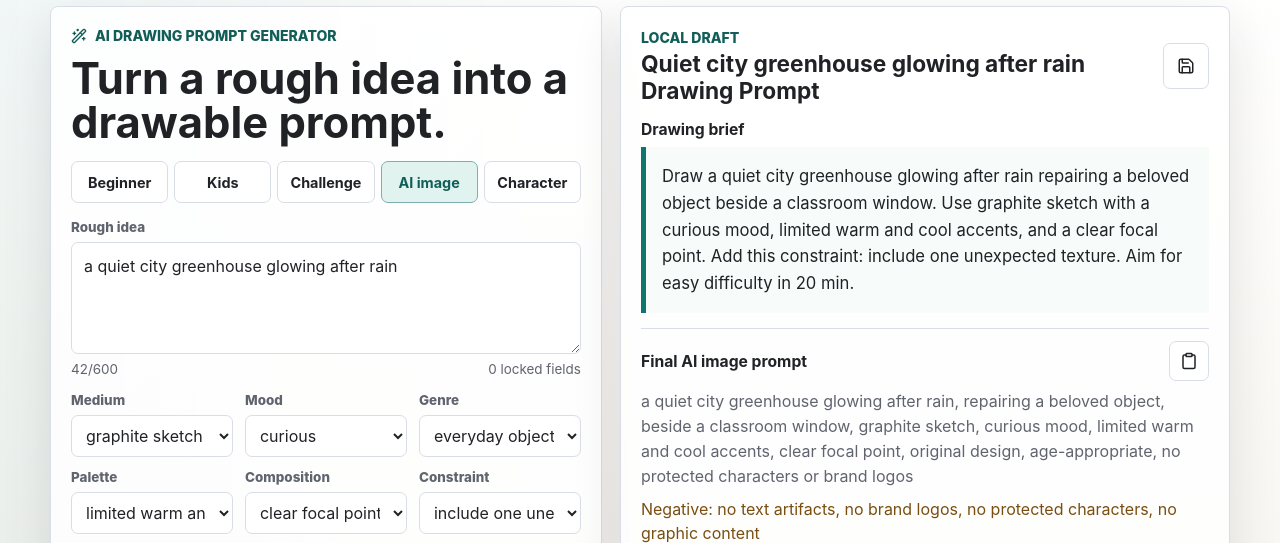
Test: PromptTool integration › generates, locks, copies, saves, and clears prompts
This screenshot has width=1280, height=543.
Replace the text in the text box labelled "Rough idea" with "a robot gardener": point(326, 298) left=71, top=242, right=581, bottom=354
(page scrolled)
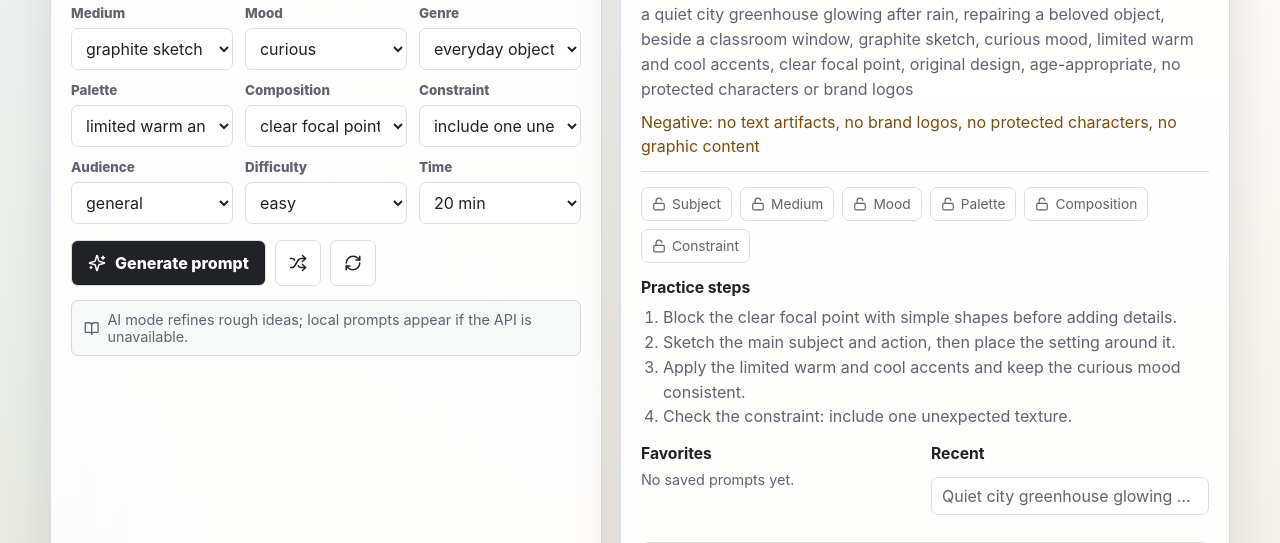
Click the button "Generate prompt": point(168, 263) left=71, top=240, right=266, bottom=286
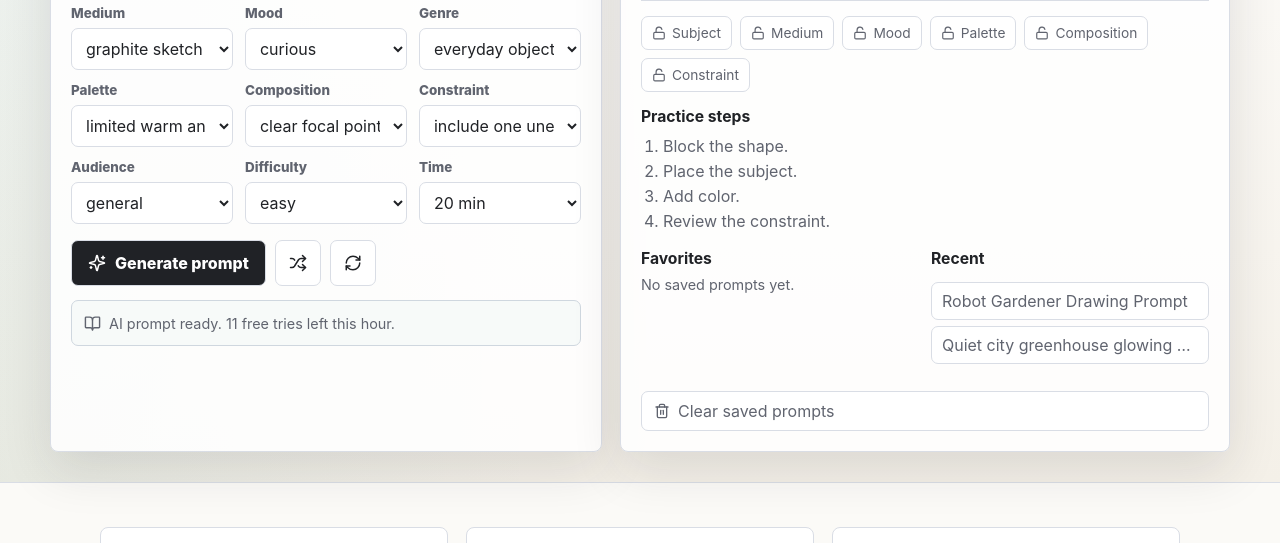
Click the button "Subject": point(686, 33) left=641, top=16, right=732, bottom=50
(page scrolled)
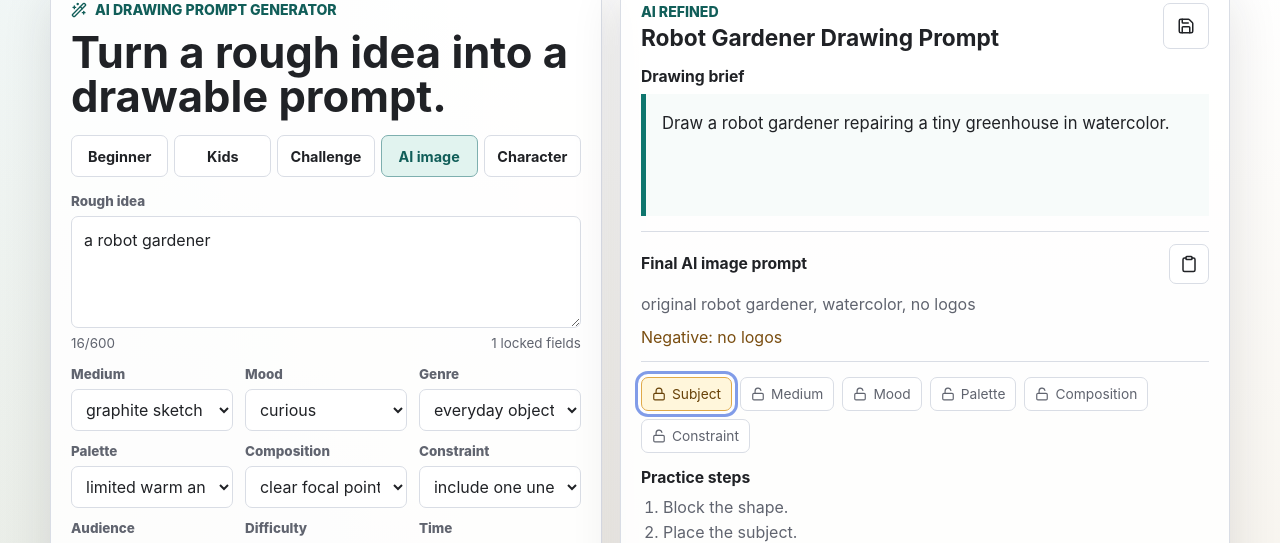
Expected: the text "1 locked fields" is shown, left=491, top=335, right=581, bottom=351
Click the button named "Copy final AI image prompt": point(1189, 264) left=1169, top=244, right=1209, bottom=284
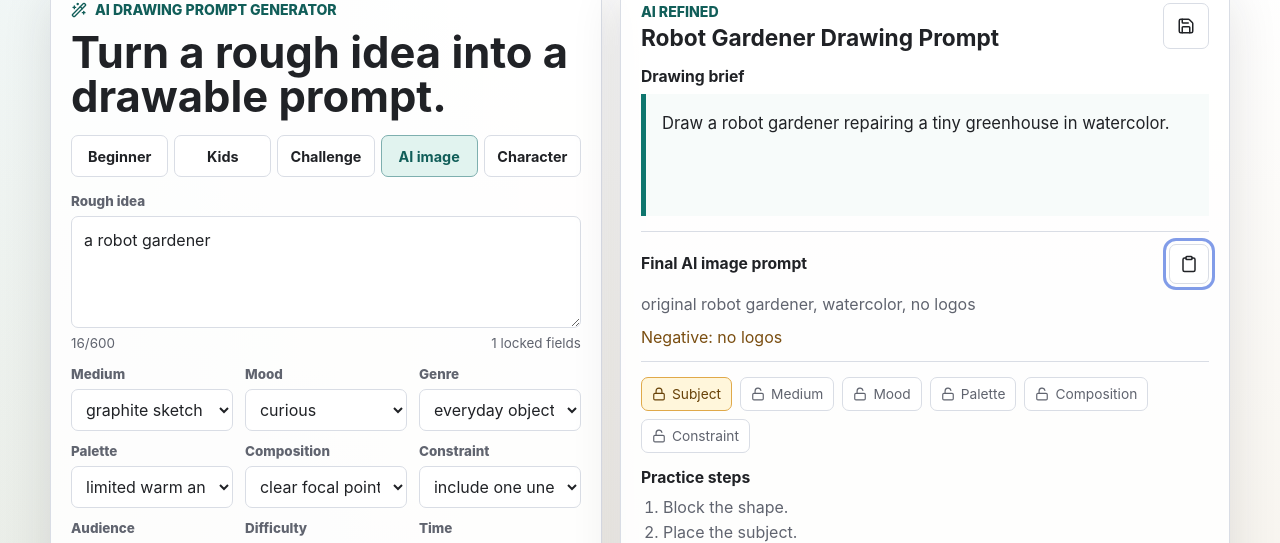
Click the button named "Save favorite": point(1186, 26) left=1163, top=3, right=1209, bottom=49
(page scrolled)
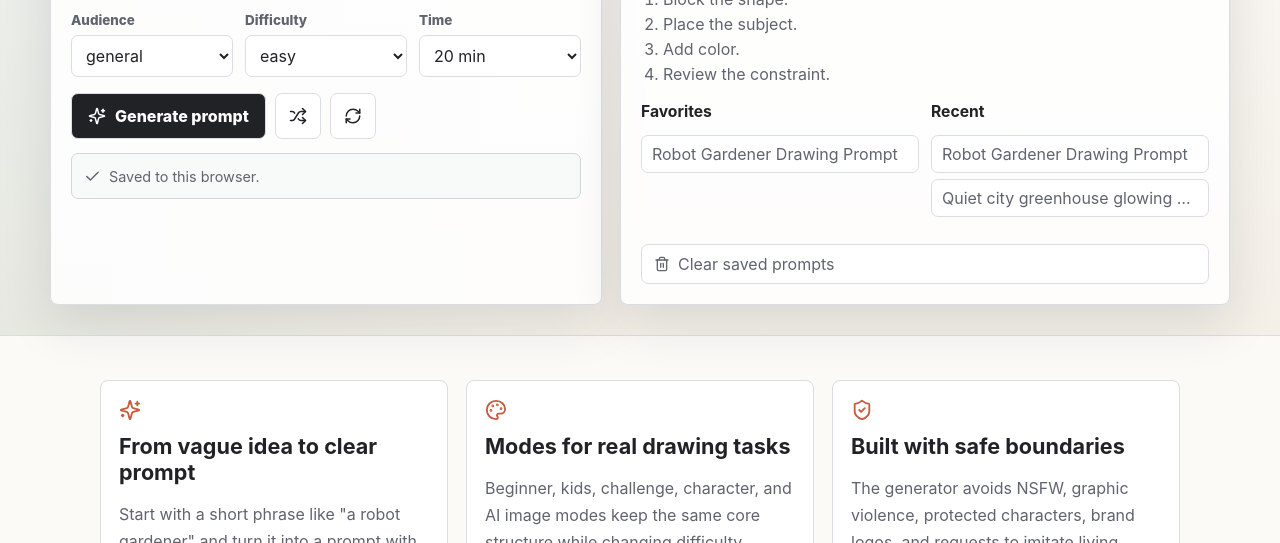
Click the button "Clear saved prompts": point(756, 264) left=641, top=244, right=1209, bottom=284
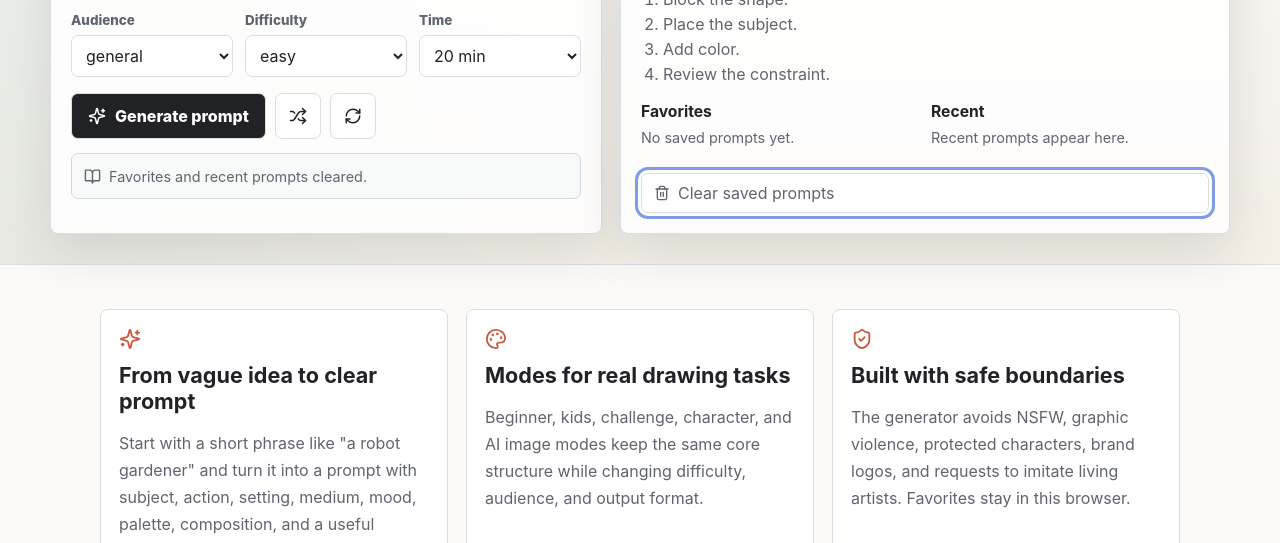
Expected: the text "Favorites and recent prompts cleared." is shown, left=109, top=168, right=367, bottom=185
